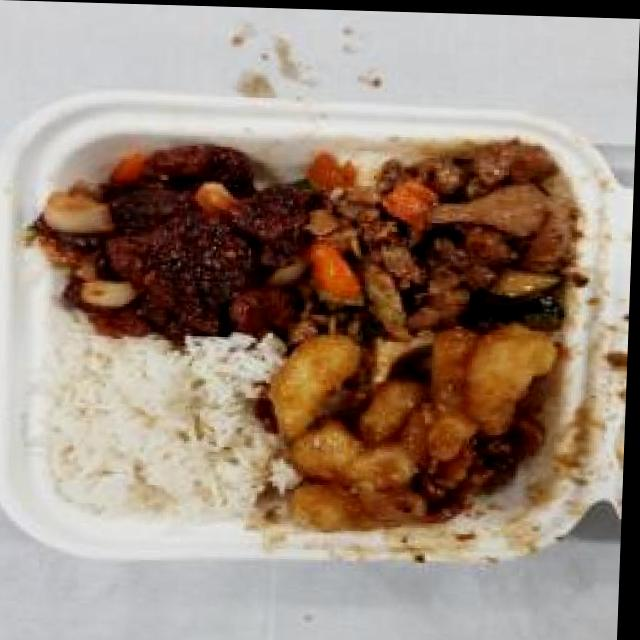Beijing Beef: (35, 131, 311, 340)
Honey Walnut Shrimp: (263, 309, 562, 539)
Kung Pao Chicken: (295, 130, 589, 350)
White Steamed Rice: (45, 336, 268, 519)
